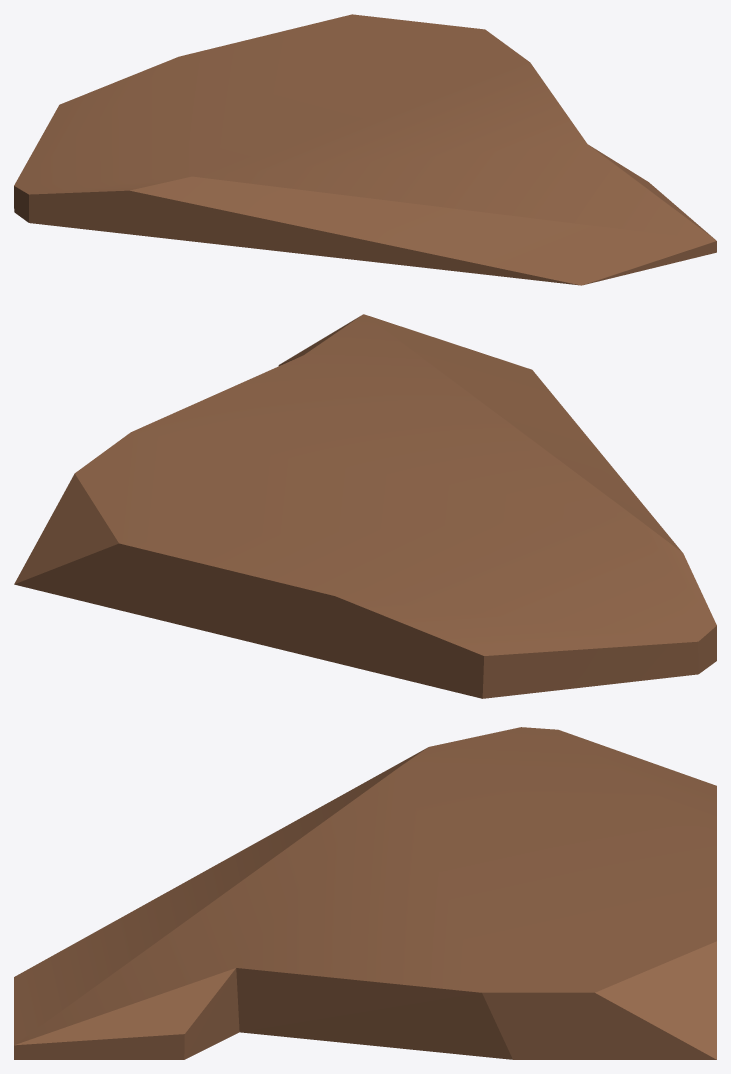
The model's file is Stoneslab_008.FBX.
3 renders of one model, top to bottom at view 1: azimuth 30°, elevation 25°; view 2: azimuth 150°, elevation 25°; view 3: azimuth 270°, elevation 25°, orthographic. The views are drawn at different scales.
Parts seen in each view (by area): view 1: Stoneslab_008; view 2: Stoneslab_008; view 3: Stoneslab_008.
Boxes of the visible parts, <box> form: Stoneslab_008: <box>14,14,716,285</box>; Stoneslab_008: <box>14,314,716,698</box>; Stoneslab_008: <box>14,727,716,1059</box>.
Bounding box in the file's own units: 37.4 × 3.94 × 37.4.
